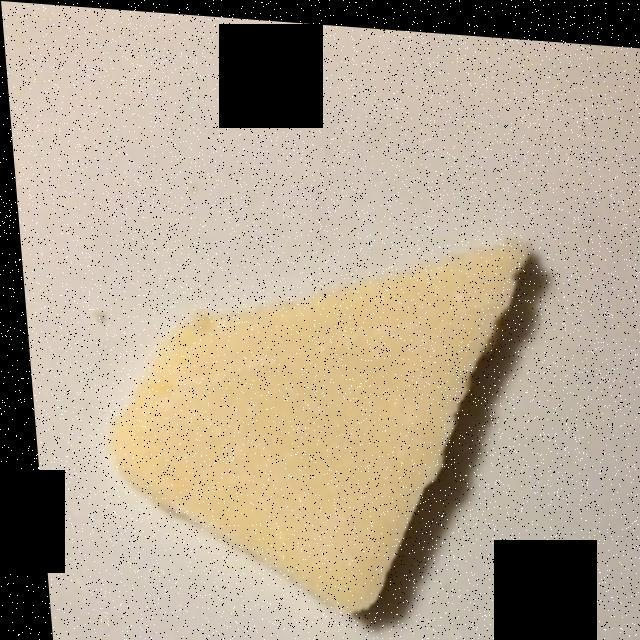cheese: (106, 234, 518, 605)
